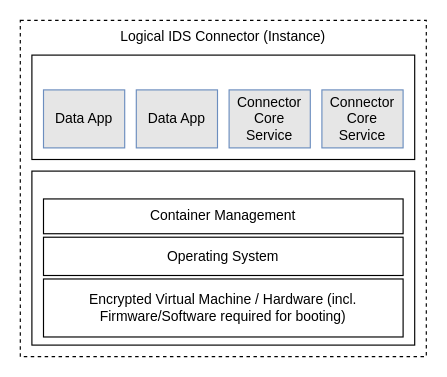
Image size: 447x377. Some labels were removed from this diagram. The box of each missing label's shape, as (x1, y1, x2, y2) in pixels:
Platform Instance: (31, 170, 415, 345)
Service instance: (31, 54, 415, 160)
